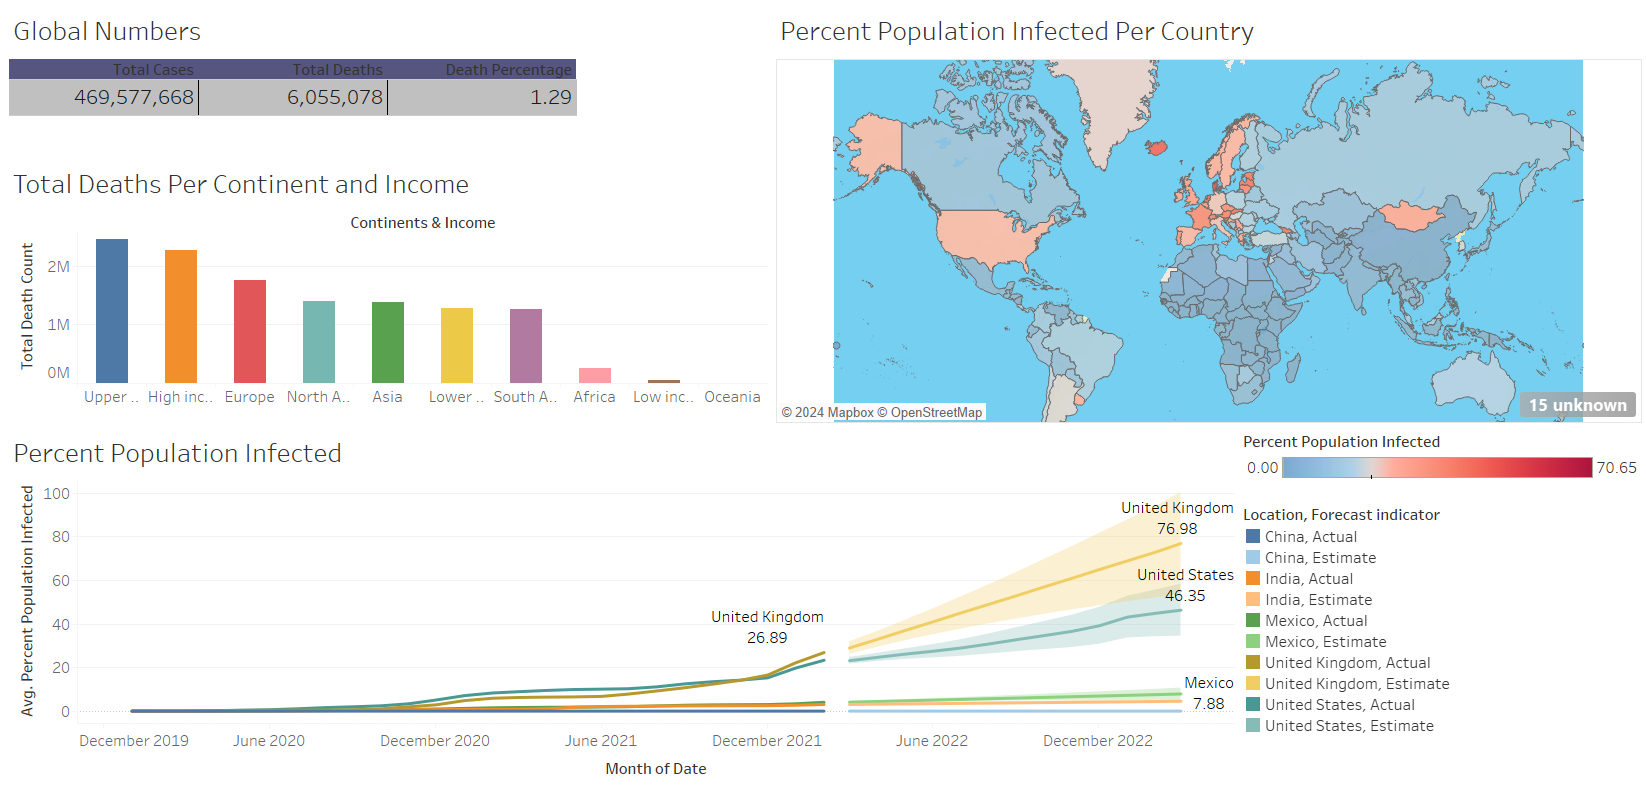

This screenshot's page, from the dashboard's own definition file:
{"tool":"tableau","page":{"name":"Dashboard 1","canvas":[1000,1000],"units":"permille","ordinal":0},"visuals":[{"type":"worksheet","title":"Sheet 1","mark":"Automatic","box":[4.8,10,495.2,191.3]},{"type":"worksheet","title":"Sheet 3","mark":"Automatic","box":[500,10,495.2,457.2]},{"type":"worksheet","title":"Sheet 2","mark":"Automatic","rows":["TotalDeathCount"],"cols":["location"],"box":[4.8,201.2,495.2,266]},{"type":"worksheet","title":"Sheet 4","mark":"Automatic","rows":["PercentPopulationInfected"],"cols":["date"],"box":[4.8,467.2,893.8,522.8]},{"type":"legend","title":"Sheet 3","param":"[federated.0e423zb1izarju10zt9qw0mylx75].[sum:PercentPopulationInfected:qk]","box":[898.6,467.2,96.6,91.1]},{"type":"legend","title":"Sheet 4","param":"[federated.057wjhh1btutq80zxv8uo0ufeico].[none:Location:nk]\n[federated.057wjhh1b","box":[898.6,558.4,96.6,299.6]}]}

Visuals, with their boxes on the dashboard's canvas, which has no fixed pixel size, in thousandths of its width and height (x1, y1, x2, y2). These are canvas units, not pixel positions in the 1646x785 screenshot, which may show the page scaled, cropped or inside an application window:
"Sheet 1" worksheet: left=5, top=10, right=500, bottom=201
"Sheet 3" worksheet: left=500, top=10, right=995, bottom=467
"Sheet 2" worksheet: left=5, top=201, right=500, bottom=467
"Sheet 4" worksheet: left=5, top=467, right=899, bottom=990
"Sheet 3" legend: left=899, top=467, right=995, bottom=558
"Sheet 4" legend: left=899, top=558, right=995, bottom=858
